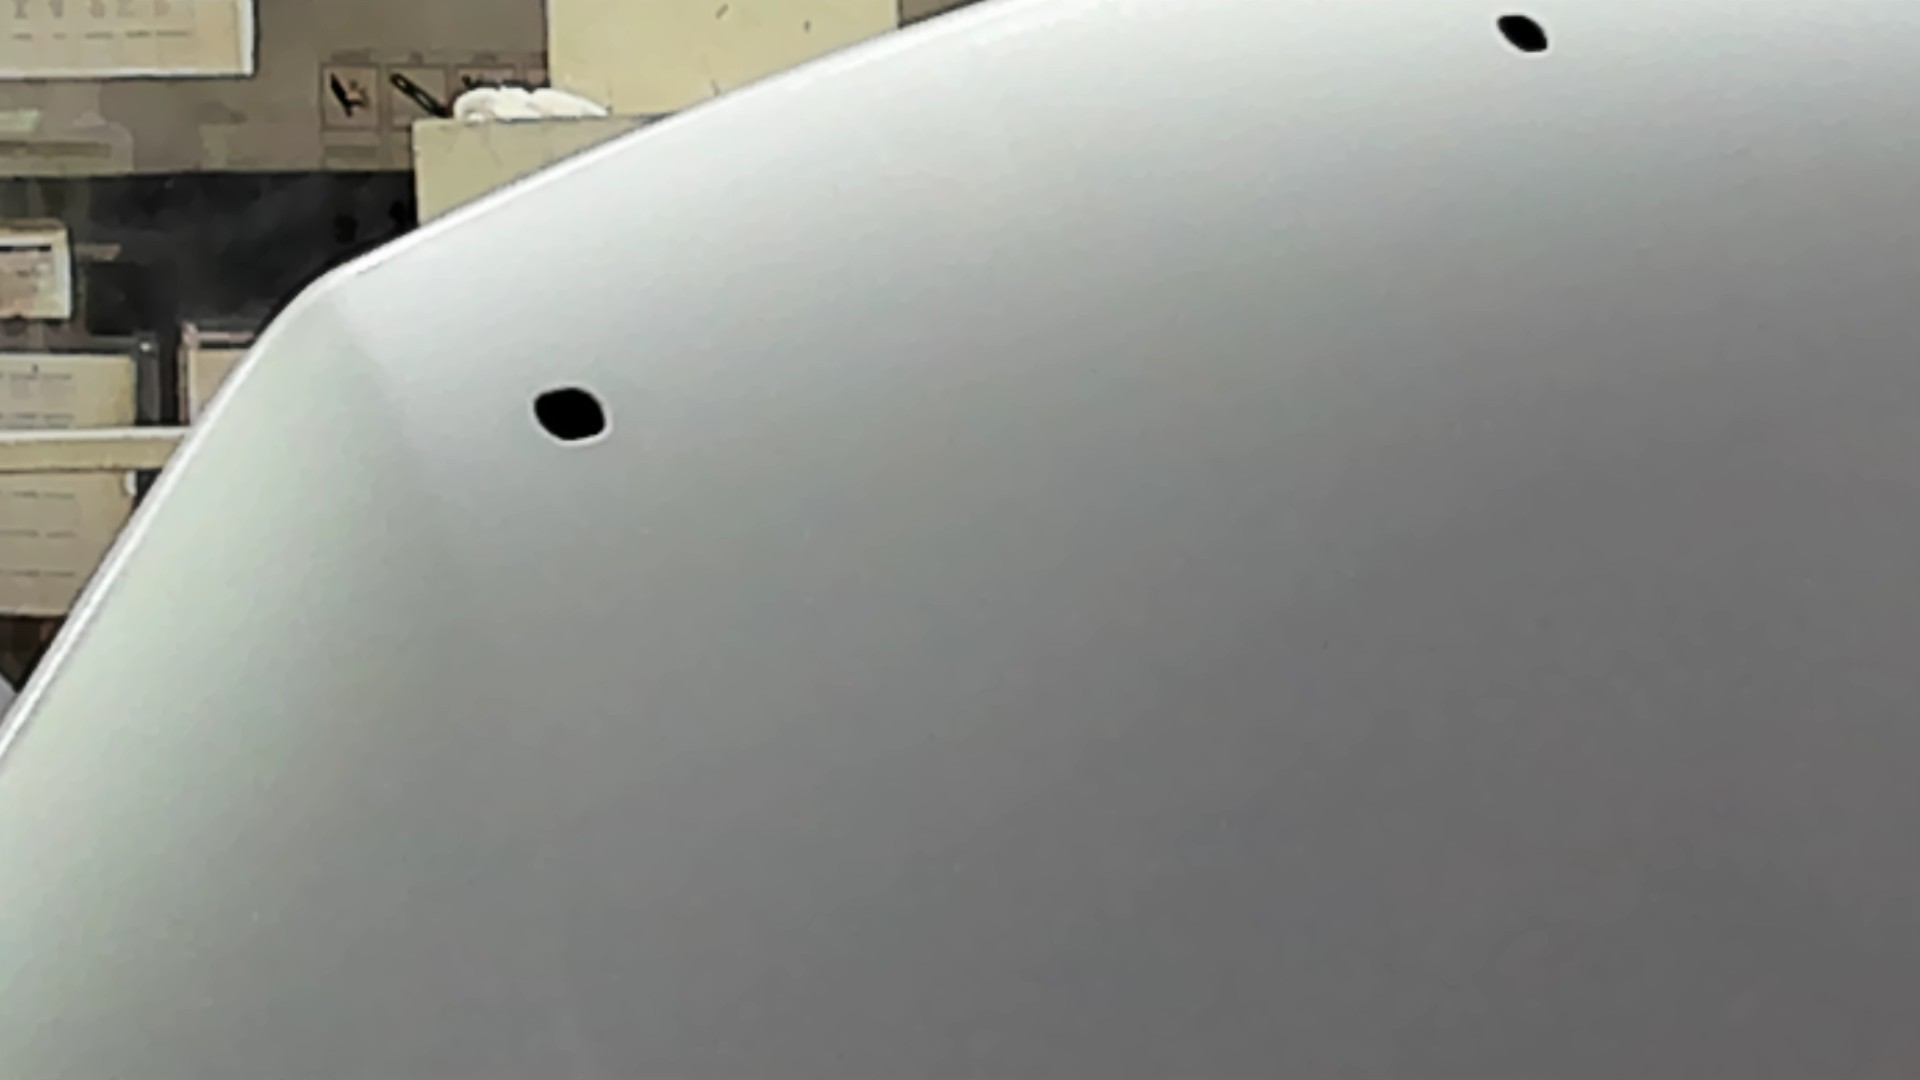amorfo: (525, 386, 613, 442), (1491, 15, 1556, 59)
